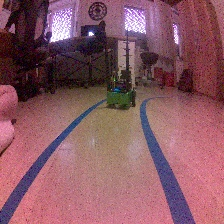rob: (105, 69, 136, 109)
